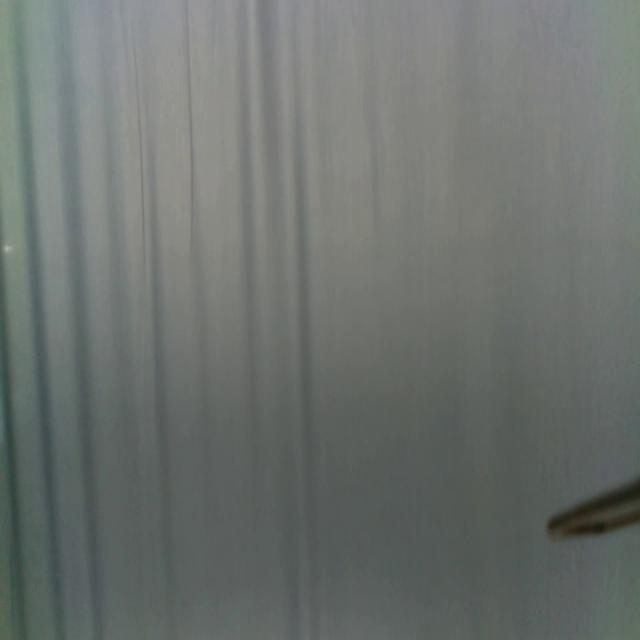crease: (131, 25, 149, 277), (184, 4, 196, 272)
